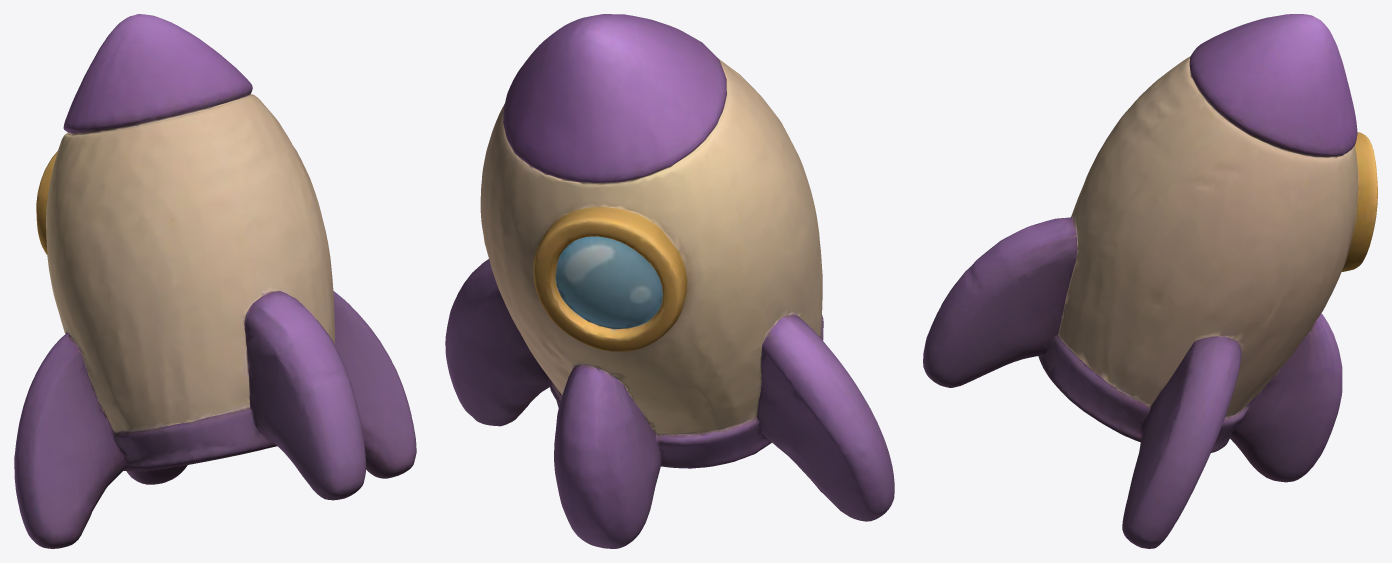
The model's file is item_rocket.glb.
3 views of the same model, side by side, from view 1: azimuth 30°, elevation 25°; view 2: azimuth 150°, elevation 25°; view 3: azimuth 270°, elevation 25° (orthographic). The views are drawn at different scales.
Visible parts, largest first — view 1: geometry_0; view 2: geometry_0; view 3: geometry_0.
Part boxes in pixels (<box>): geometry_0: <box>14,14,416,548</box>; geometry_0: <box>445,14,894,548</box>; geometry_0: <box>923,14,1377,548</box>.
Size of the model in its own units: 0.7305 by 0.8401 by 0.7541.
1 material, 1 textured.
